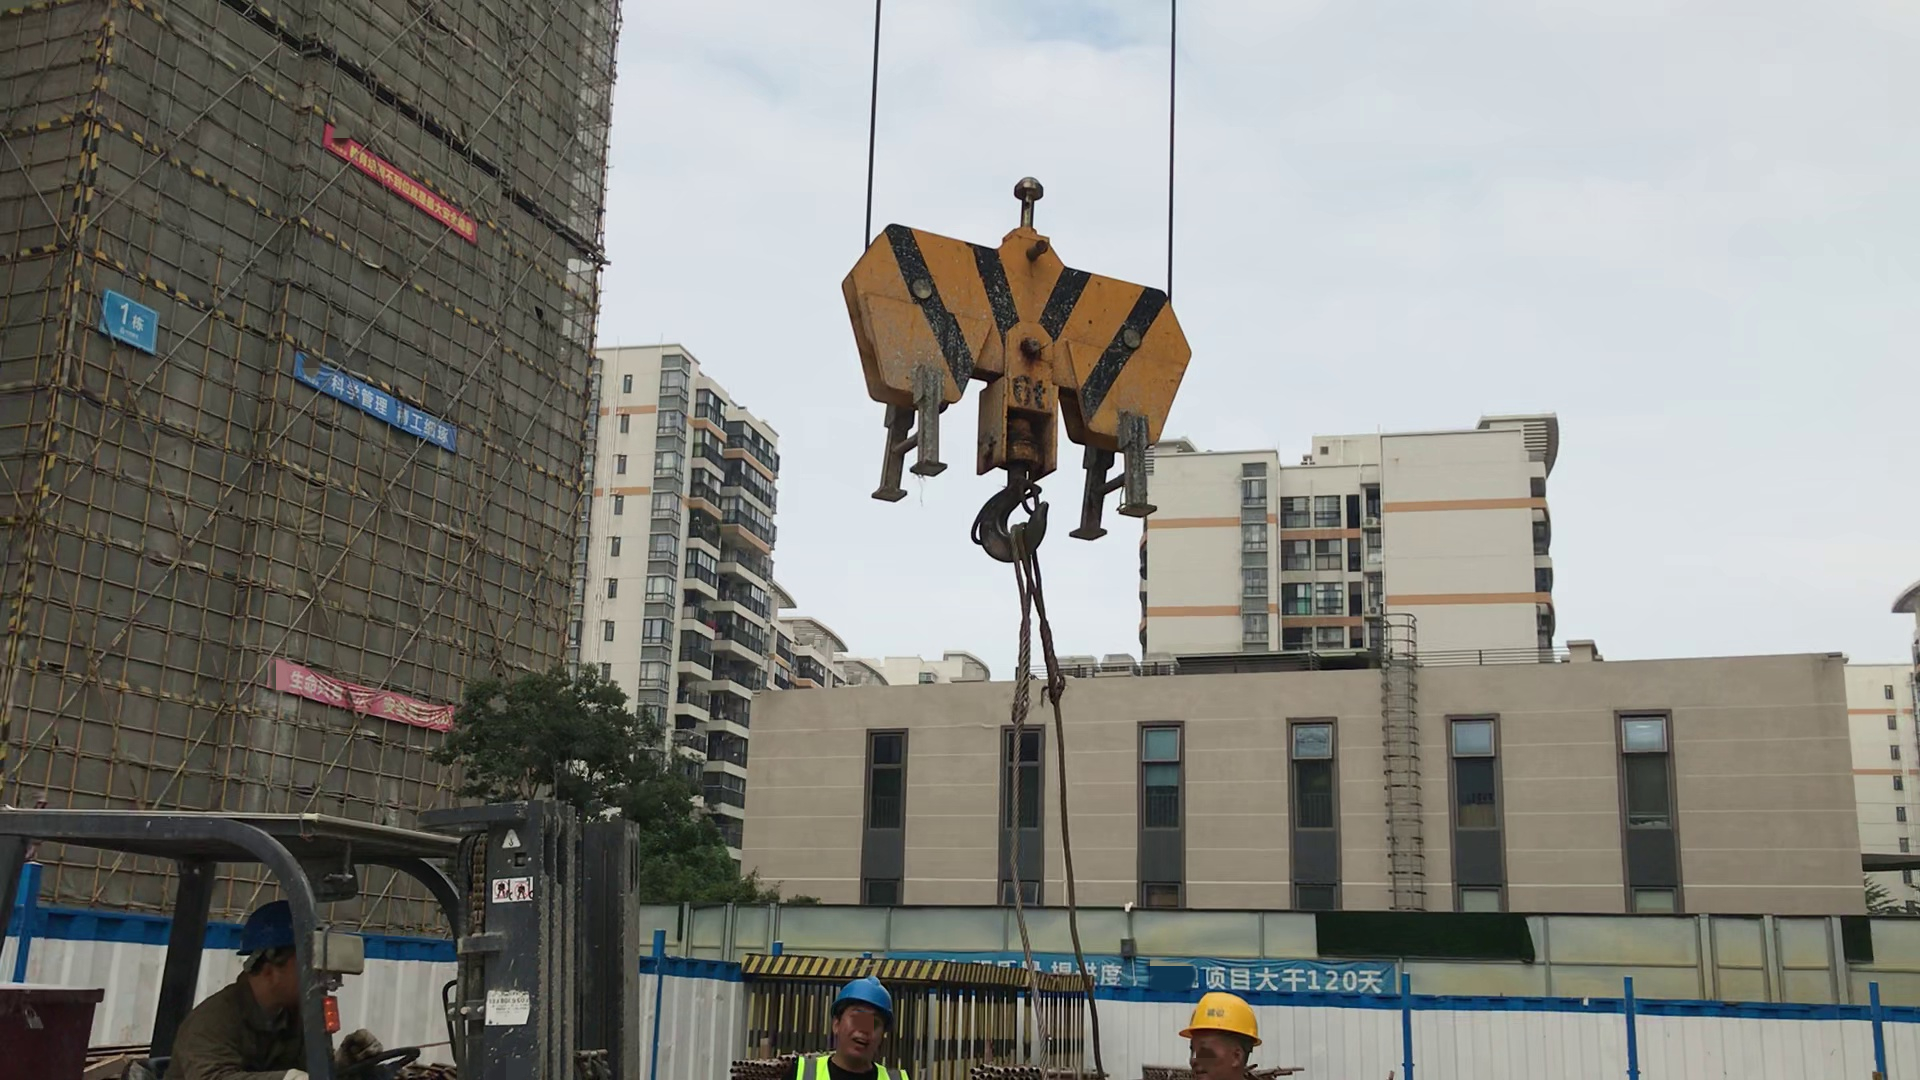helmet: (1171, 987, 1267, 1050), (225, 900, 304, 949), (823, 973, 897, 1020)
hook: (816, 133, 1181, 579)
person: (170, 893, 415, 1072), (723, 954, 956, 1080), (1126, 982, 1287, 1080)
slogan: (981, 953, 1400, 1004), (319, 126, 479, 239), (293, 350, 459, 452), (267, 653, 455, 733)
vest: (775, 1043, 929, 1080)
